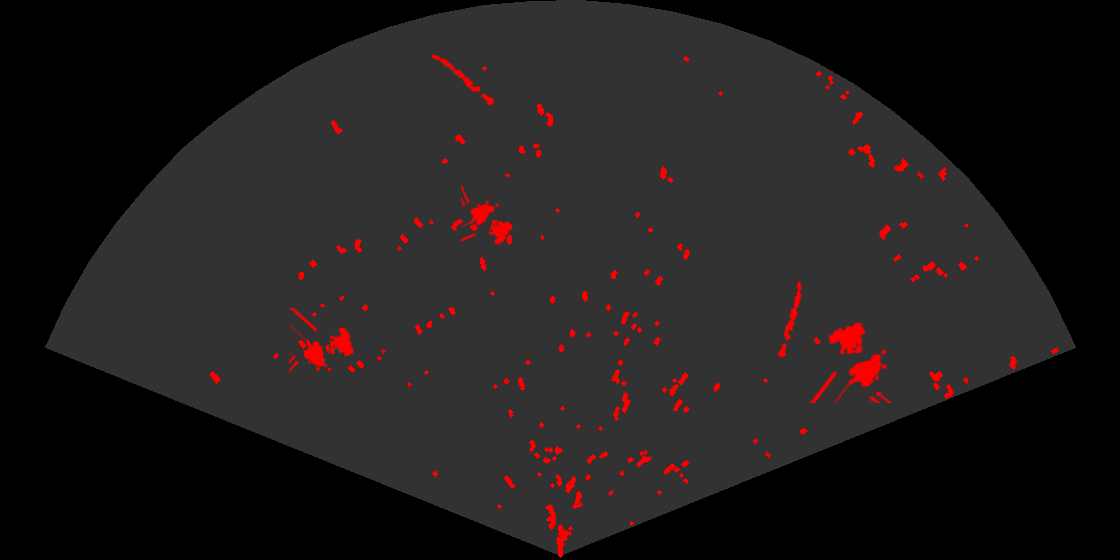cage: (808, 321, 894, 403), (289, 308, 356, 374), (461, 185, 515, 246)
chain: (430, 53, 505, 112), (776, 279, 804, 363)
